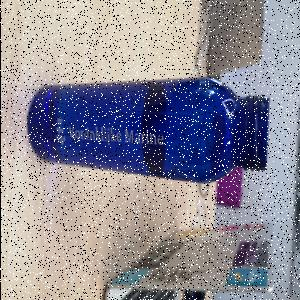Plastic-bottle: (27, 77, 272, 187)
